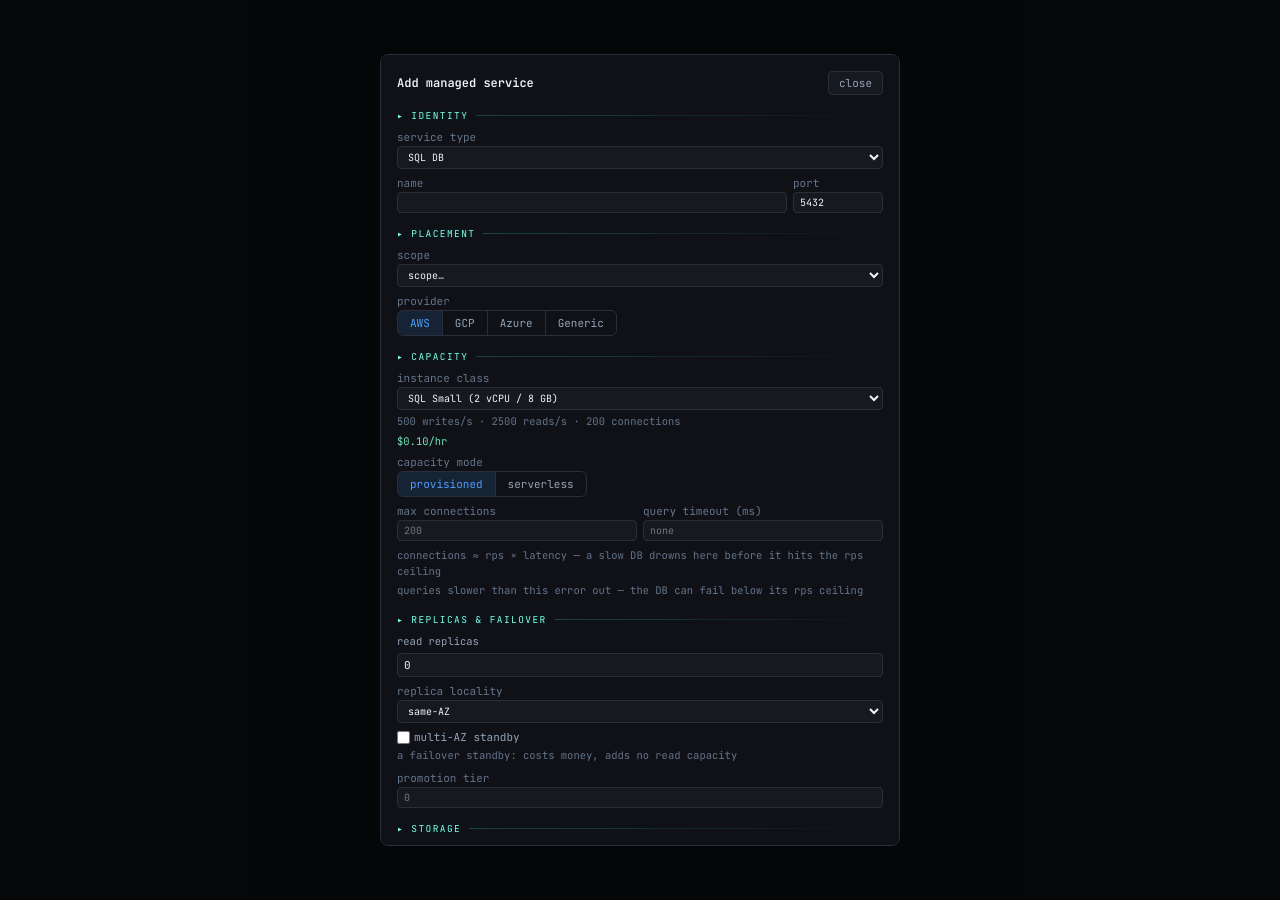
Test: ManagedServiceModal › serverless disables the commitment term select with the edit-lock-style tooltip
The image size is (1280, 900).
Select "SQL DB" in the dropdown labelled "service type": point(640, 158) [397,146,883,169]
Click the button "serverless": point(541, 484) [496,472,586,496]
(page scrolled)
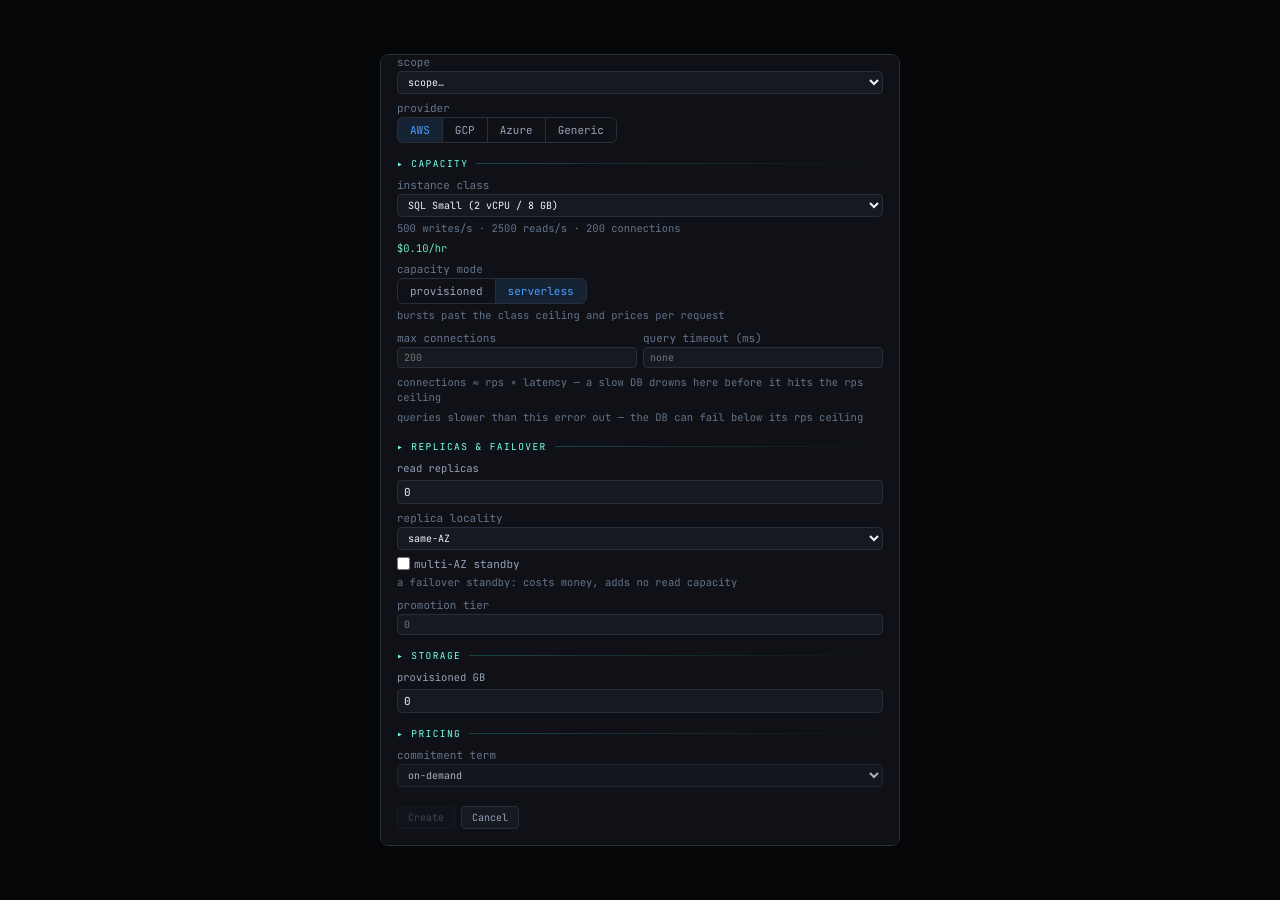
Now the dropdown labelled "commitment term" is disabled, box [397,764,883,786]
